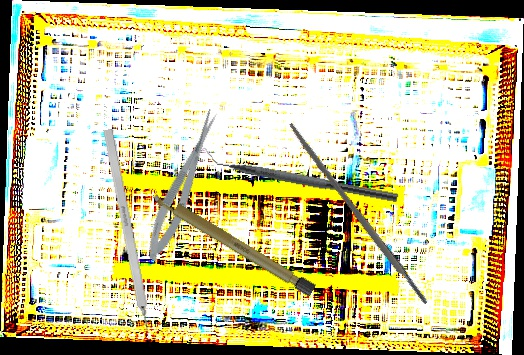Chopper: (198, 145, 402, 203)
Hook Surgical: (102, 128, 156, 349)
Micro Scissor: (138, 106, 229, 265)
Scalpel Handle: (285, 121, 430, 307), (149, 189, 317, 297)
